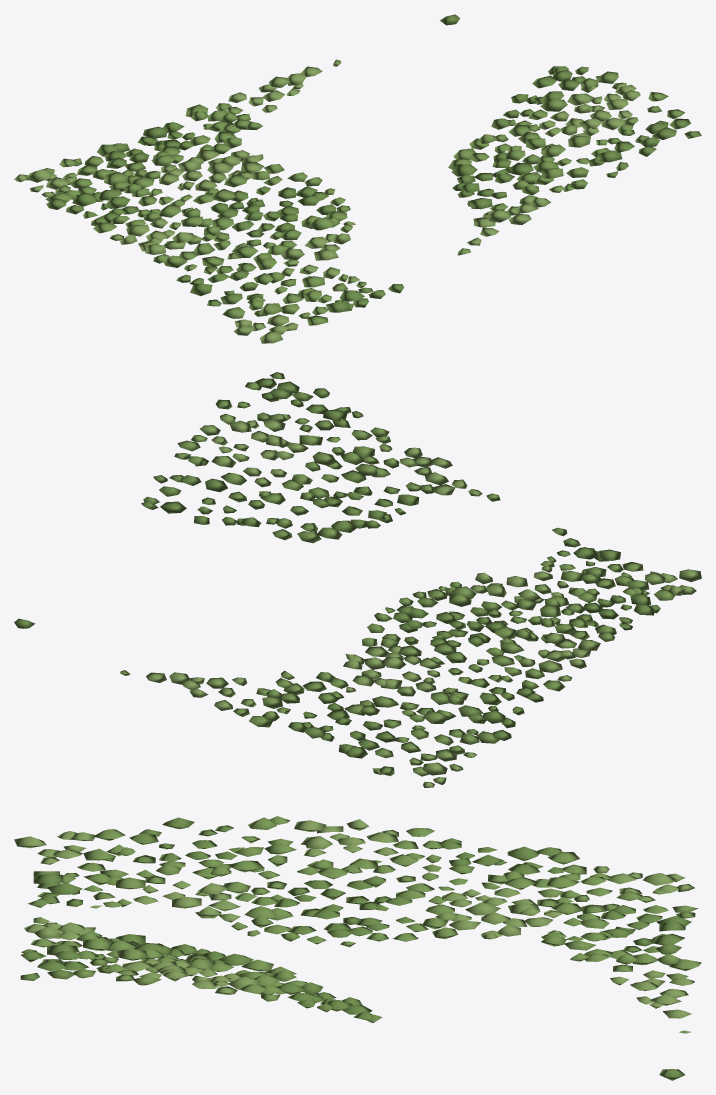
The model's file is canopy-1--4--1.glb.
The picture shows the model from 3 angles, top to bottom: view 1: azimuth 30°, elevation 25°; view 2: azimuth 150°, elevation 25°; view 3: azimuth 270°, elevation 25°; orthographic projection. The views are drawn at different scales.
Size of the model in its own units: 518 by 150 by 522.
Materials: 1 (1 with a texture image).
